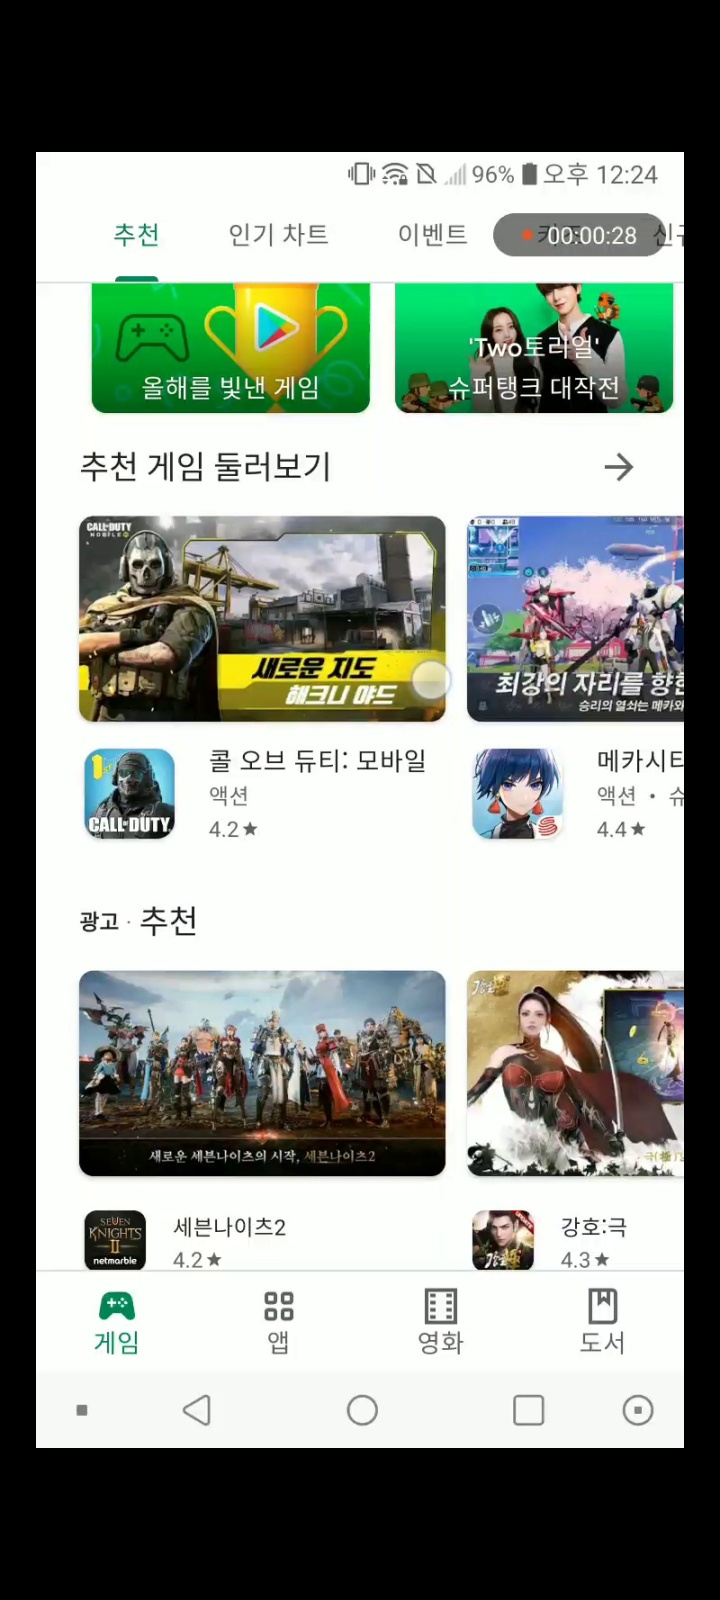Cursor: (409, 658, 454, 703)
